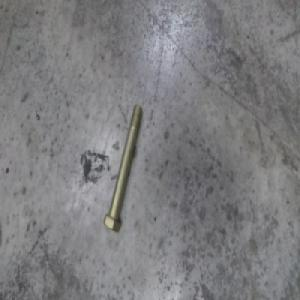Bolt: (103, 110, 143, 238)
